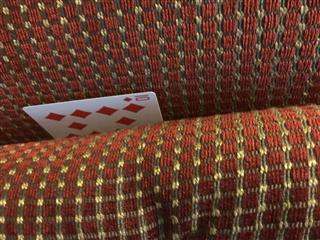TenOfDiamonds: (21, 90, 163, 140)
